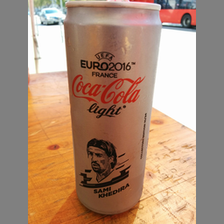soda: (62, 1, 163, 217)
